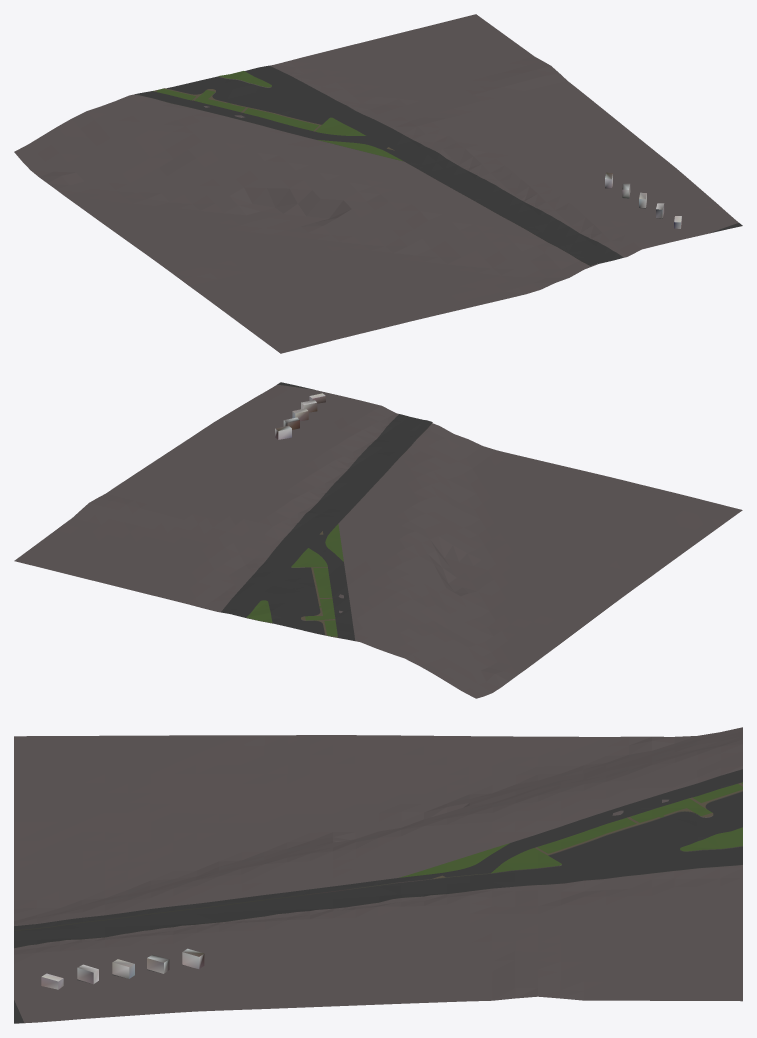
3 renders of one model, top to bottom at view 1: azimuth 30°, elevation 25°; view 2: azimuth 150°, elevation 25°; view 3: azimuth 270°, elevation 25°, orthographic. The views are drawn at different scales.
Parts seen in each view (by area): view 1: c_m12_m15; view 2: c_m12_m15; view 3: c_m12_m15.
Part boxes in pixels (<box>): c_m12_m15: <box>14,14,742,353</box>; c_m12_m15: <box>14,382,742,698</box>; c_m12_m15: <box>14,727,742,1023</box>.
Size of the model in its own units: 128 by 9.47 by 128.
